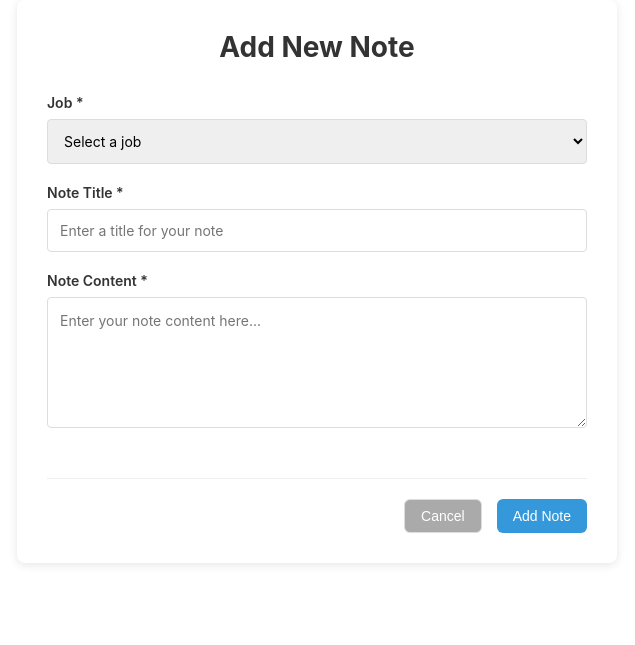
Test: NotesForm Component › Edge Cases › clears error message on successful re-submission
Select "TechCorp" in the dropdown labelled "Job *": (317, 142) [47,119,587,164]
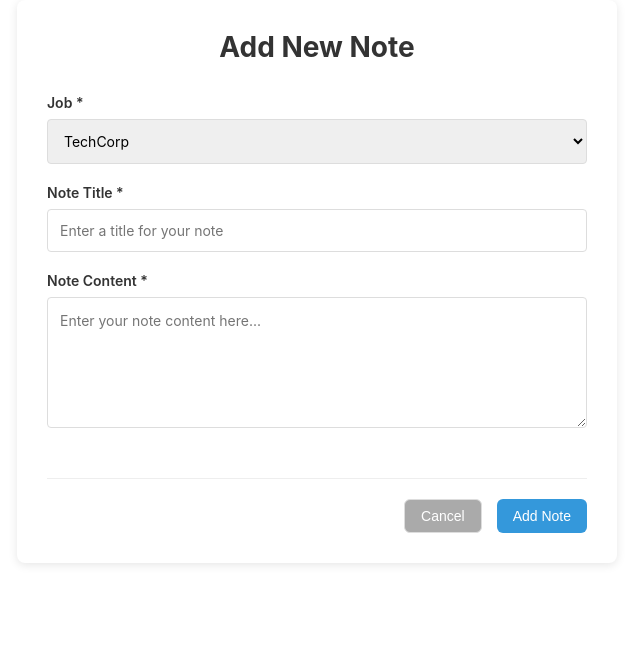
In the field labelled "Note Title *": (317, 230) [47,209,587,252], type "Test"
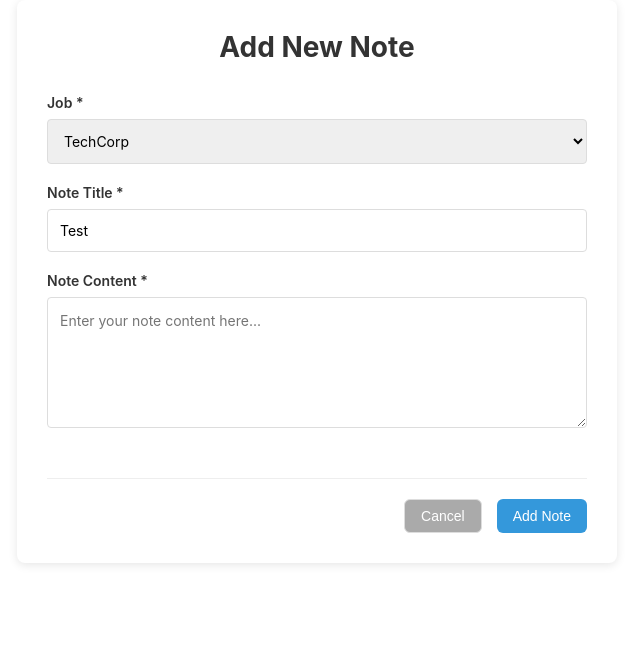
In the text box labelled "Note Content *": (317, 362) [47,297,587,428], type "Content"
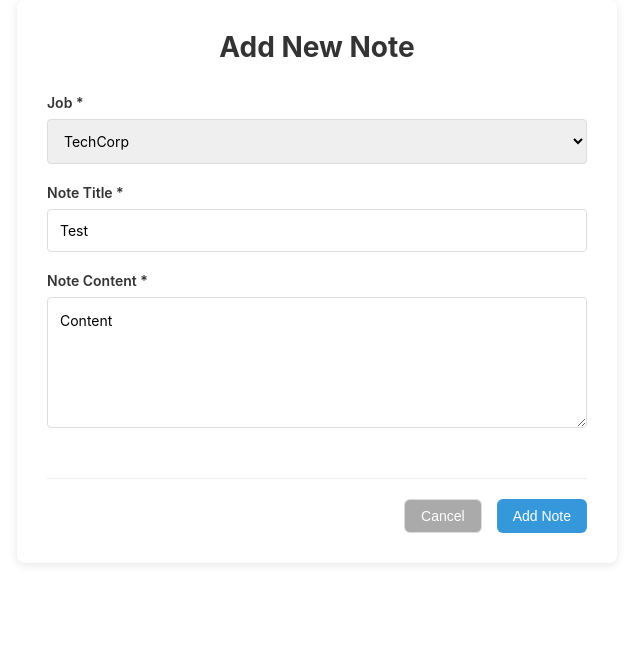
Note: First submission fails
Click the button "Add Note": (542, 516) [497,499,587,533]
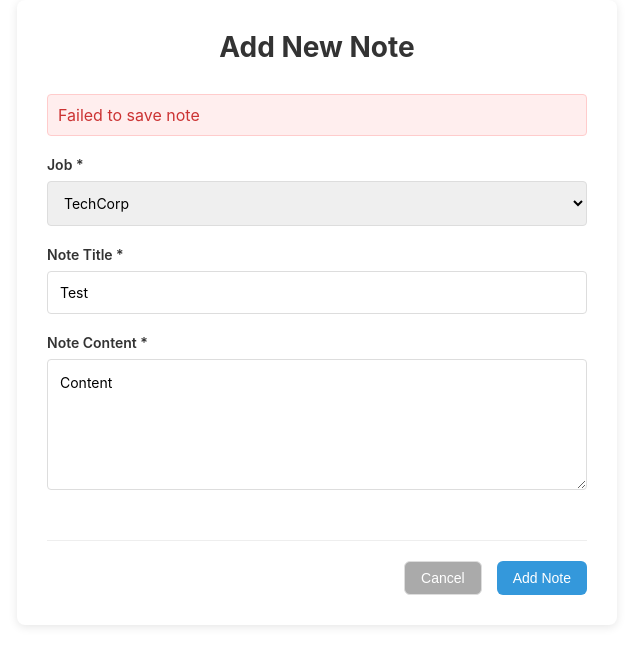
Expected: the text "Failed to save note" is shown, [47,94,587,136]
Note: Second submission succeeds
Click the button "Add Note": (542, 578) [497,561,587,595]
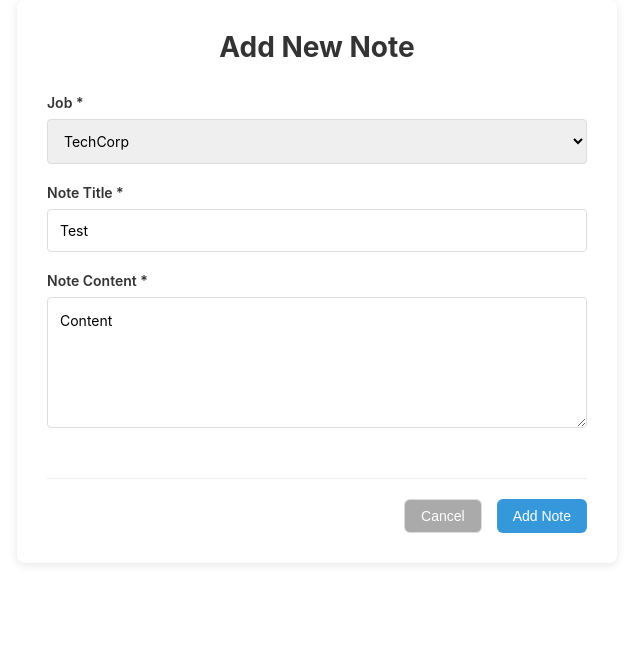
Expected: the text "Failed to save note" is gone
